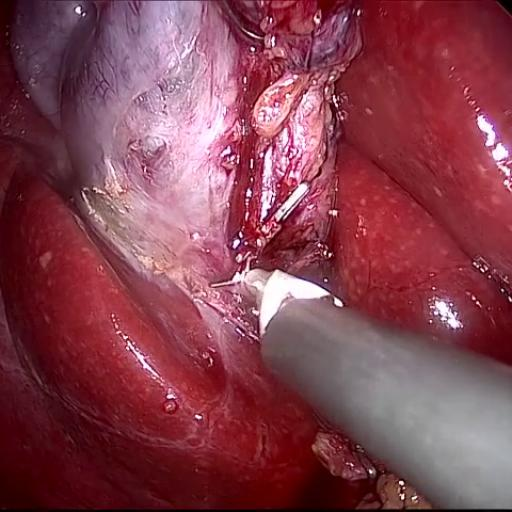Hook: (187, 195, 355, 366)
